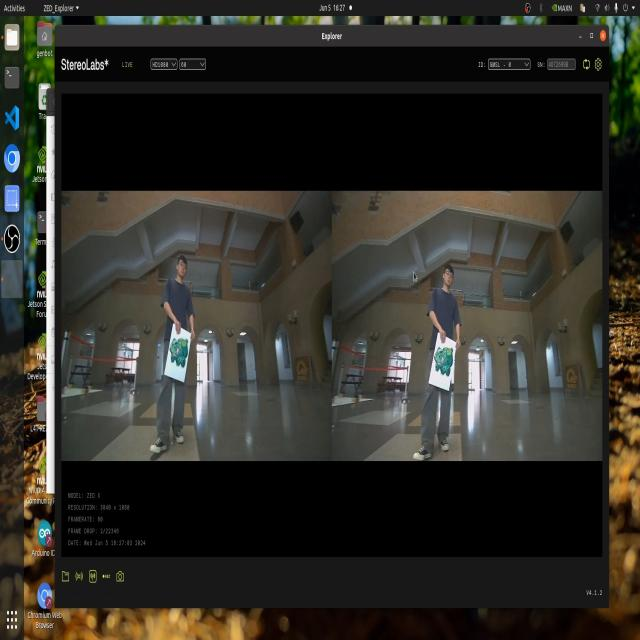green: (164, 330, 196, 380), (435, 335, 455, 395)
